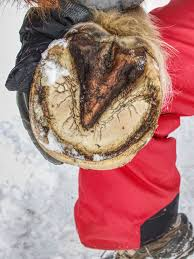horsesole: (29, 36, 162, 169)
